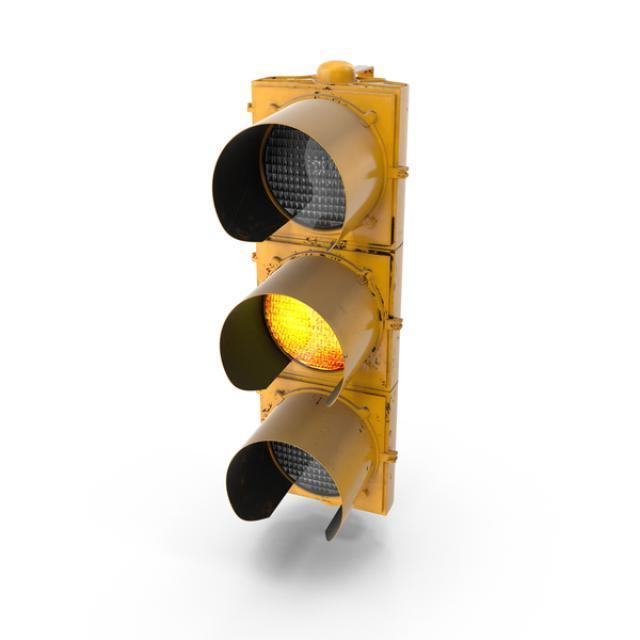yellow_light: (212, 60, 406, 539)
